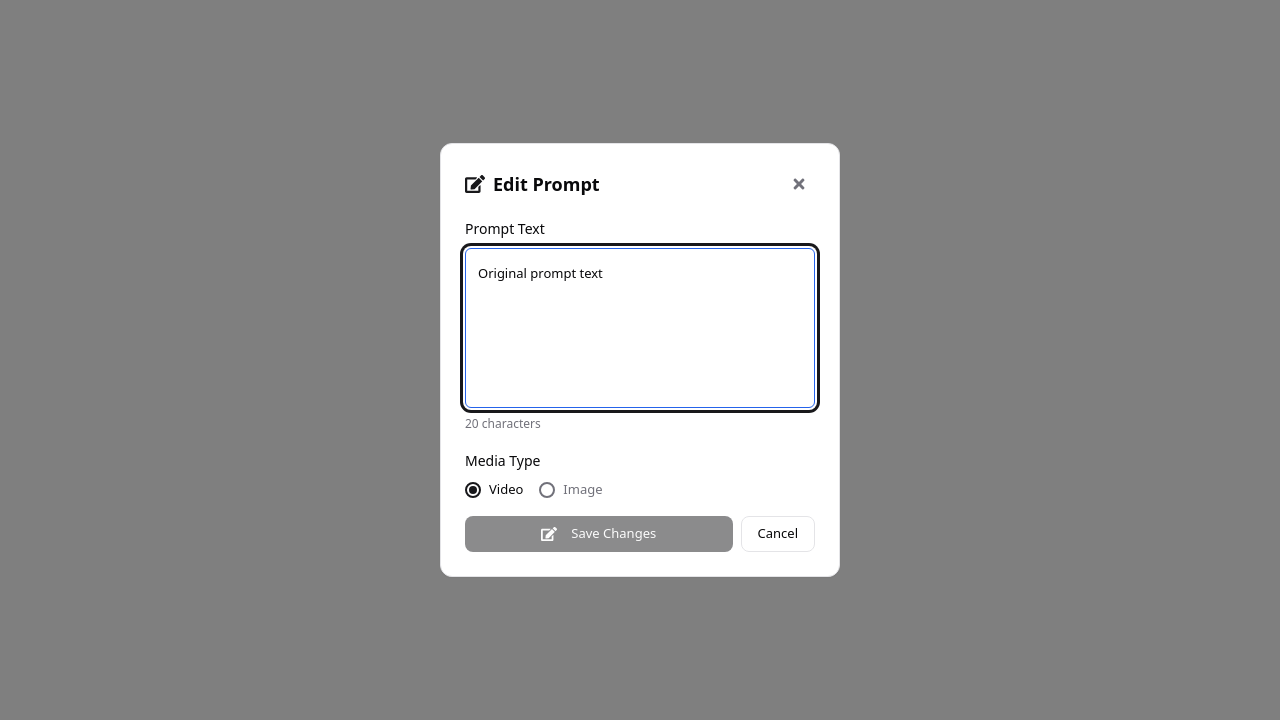
Test case: EditPromptDialog › should handle non-Error exception in save
Replace the text in the text box labelled "Prompt Text" with "Updated text" at (640, 328), box [465,248,815,408]
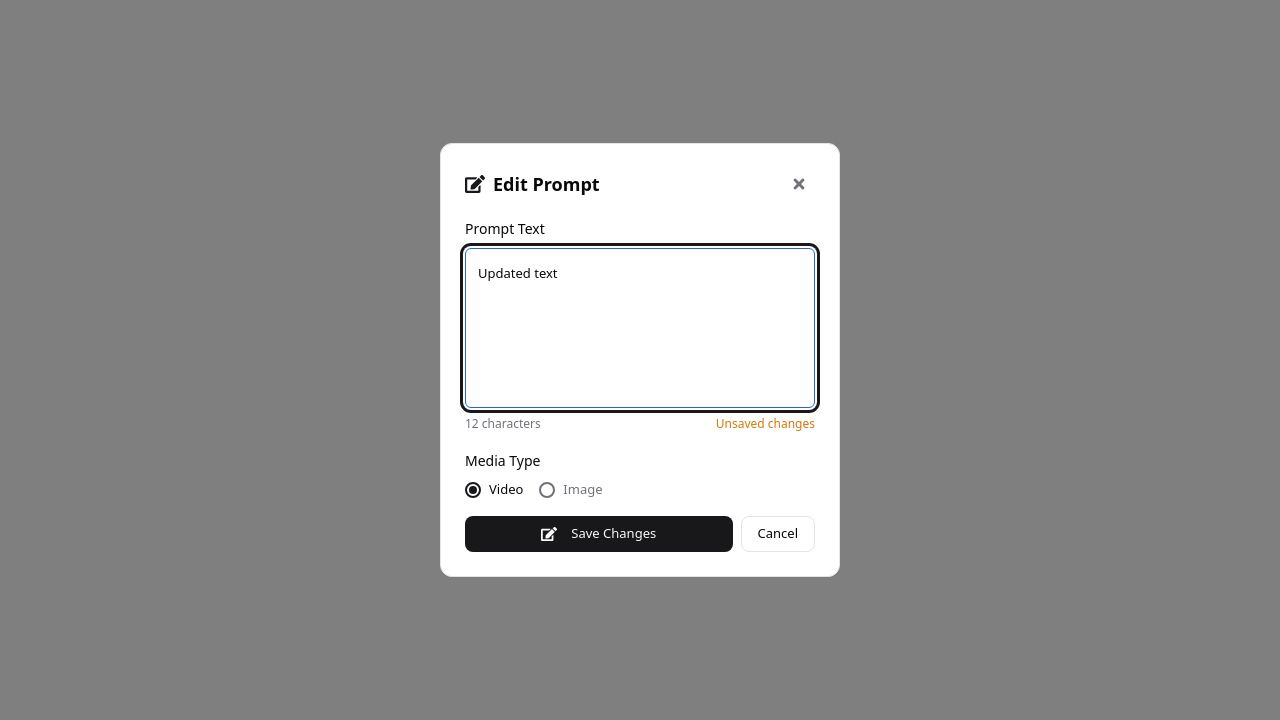
Click the button "Save Changes" at (599, 534), box [465,516,732,552]
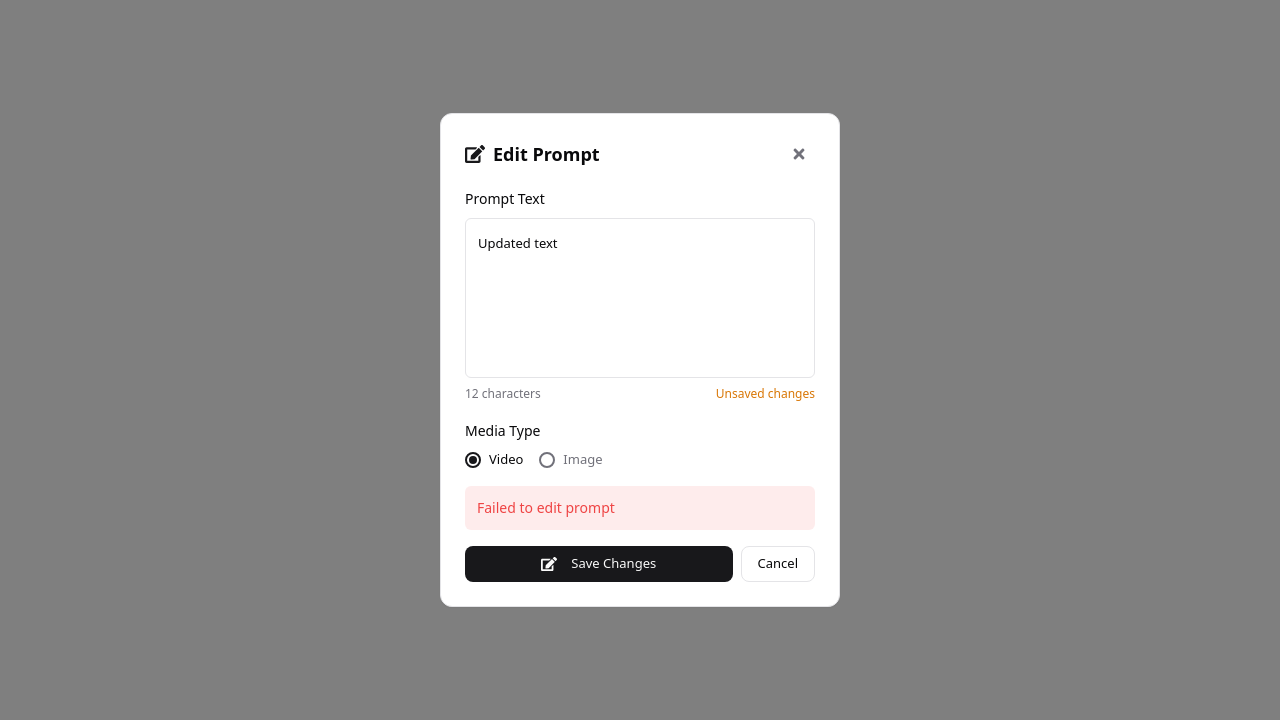
Check: the text "Failed to edit prompt" is shown, box [465,486,815,530]
